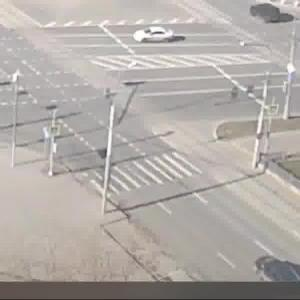car: (255, 254, 300, 285), (133, 23, 182, 50), (251, 4, 286, 27)
